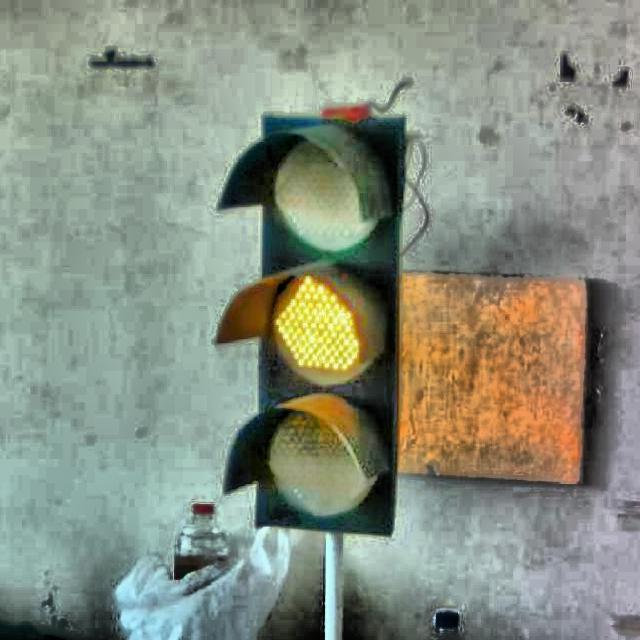yellow: (222, 112, 410, 530)
